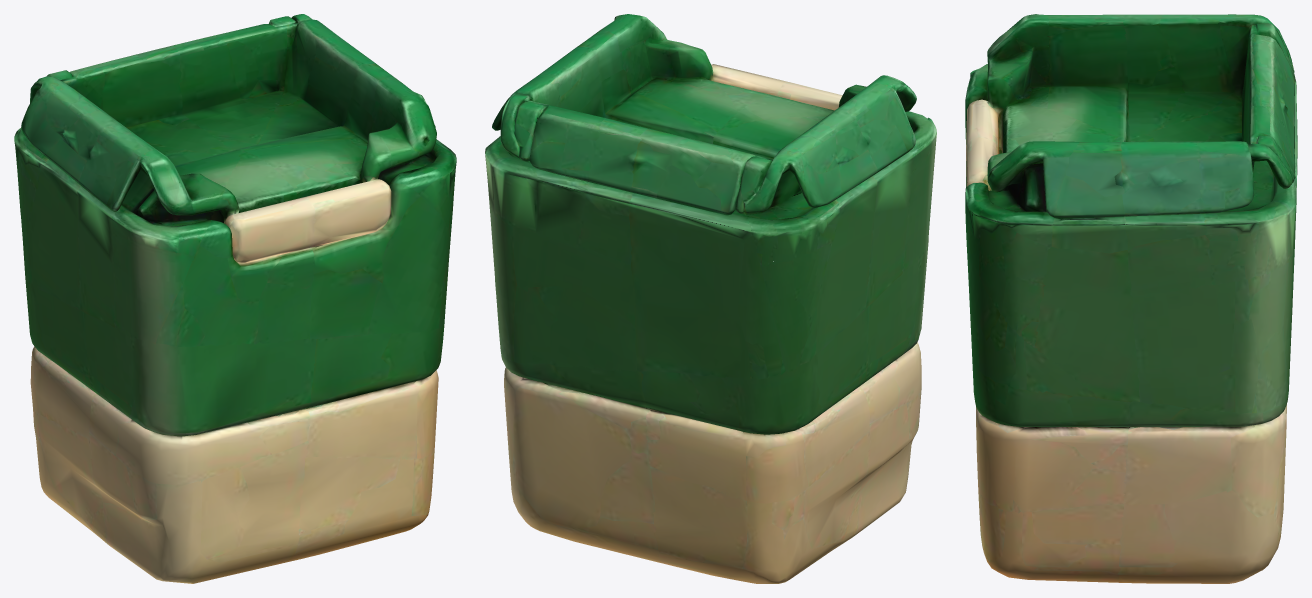
File: home-package.glb
The picture shows the model from 3 angles, left to right: view 1: azimuth 30°, elevation 25°; view 2: azimuth 150°, elevation 25°; view 3: azimuth 270°, elevation 25°; orthographic projection. The views are drawn at different scales.
Parts seen in each view (by area): view 1: tripo_node_8790a888-8557-4e3d-a24e-0b8fc170648d; view 2: tripo_node_8790a888-8557-4e3d-a24e-0b8fc170648d; view 3: tripo_node_8790a888-8557-4e3d-a24e-0b8fc170648d.
Part boxes in pixels (bbox=[...]): tripo_node_8790a888-8557-4e3d-a24e-0b8fc170648d: bbox=[14, 14, 456, 583]; tripo_node_8790a888-8557-4e3d-a24e-0b8fc170648d: bbox=[485, 14, 936, 583]; tripo_node_8790a888-8557-4e3d-a24e-0b8fc170648d: bbox=[965, 14, 1297, 583].
Size of the model in its own units: 0.7739 by 0.9796 by 0.6655.
1 material, 1 textured.
